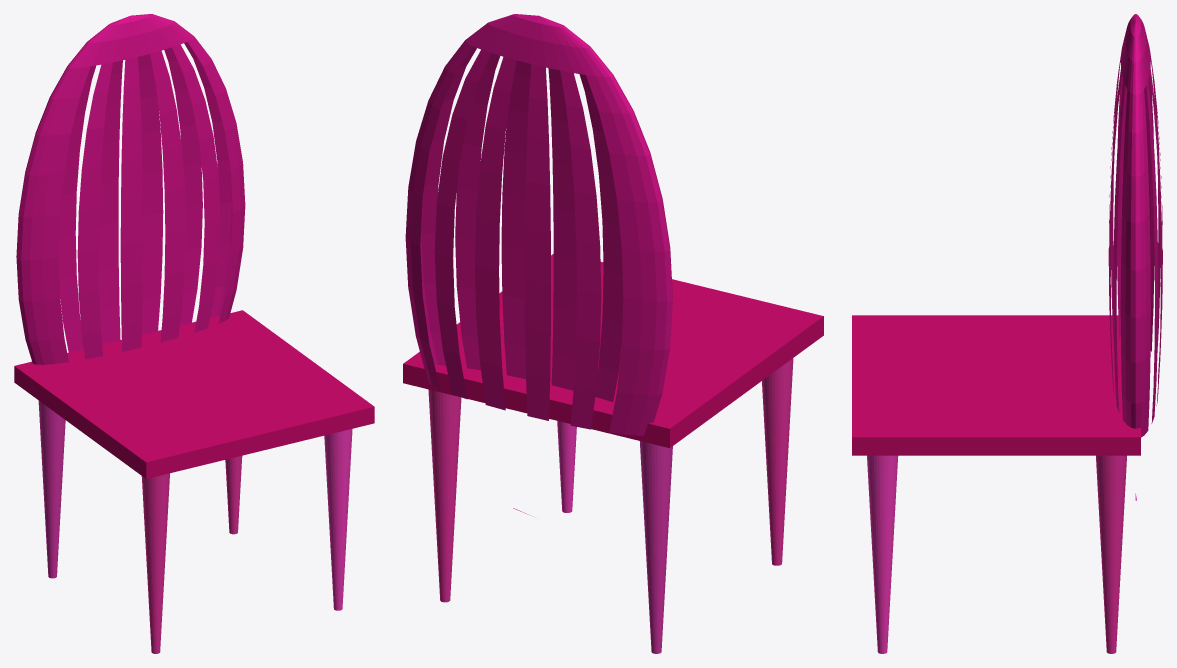
The model's file is chair1.obj.
The picture shows the model from 3 angles, left to right: view 1: azimuth 30°, elevation 25°; view 2: azimuth 150°, elevation 25°; view 3: azimuth 270°, elevation 25°; orthographic projection. The views are drawn at different scales.
Visible parts, largest first — view 1: Sphere, Cube, Cylinder.003, Cylinder, Cylinder.001, Cylinder.002; view 2: Sphere, Cube, Cylinder.001, Cylinder.002, Cylinder, Cylinder.003; view 3: Cube, Sphere, Cylinder.003, Cylinder.002.
Part boxes in pixels (x1,y1,x2,y2): Sphere: (16,14,245,364); Cube: (14,310,374,478); Cylinder.003: (324,429,352,610); Cylinder: (141,473,169,653); Cylinder.001: (38,401,65,578); Cylinder.002: (225,456,242,534); Sphere: (405,14,672,516); Cube: (403,254,823,448); Cylinder.001: (639,441,672,653); Cylinder.002: (428,389,461,602); Cylinder: (762,358,793,565); Cylinder.003: (557,421,576,512); Cube: (852,315,1140,455); Sphere: (1108,14,1162,500); Cylinder.003: (867,455,898,653); Cylinder.002: (1096,455,1126,653).
Bounding box in the file's own units: 2 × 4.44 × 2.15.
